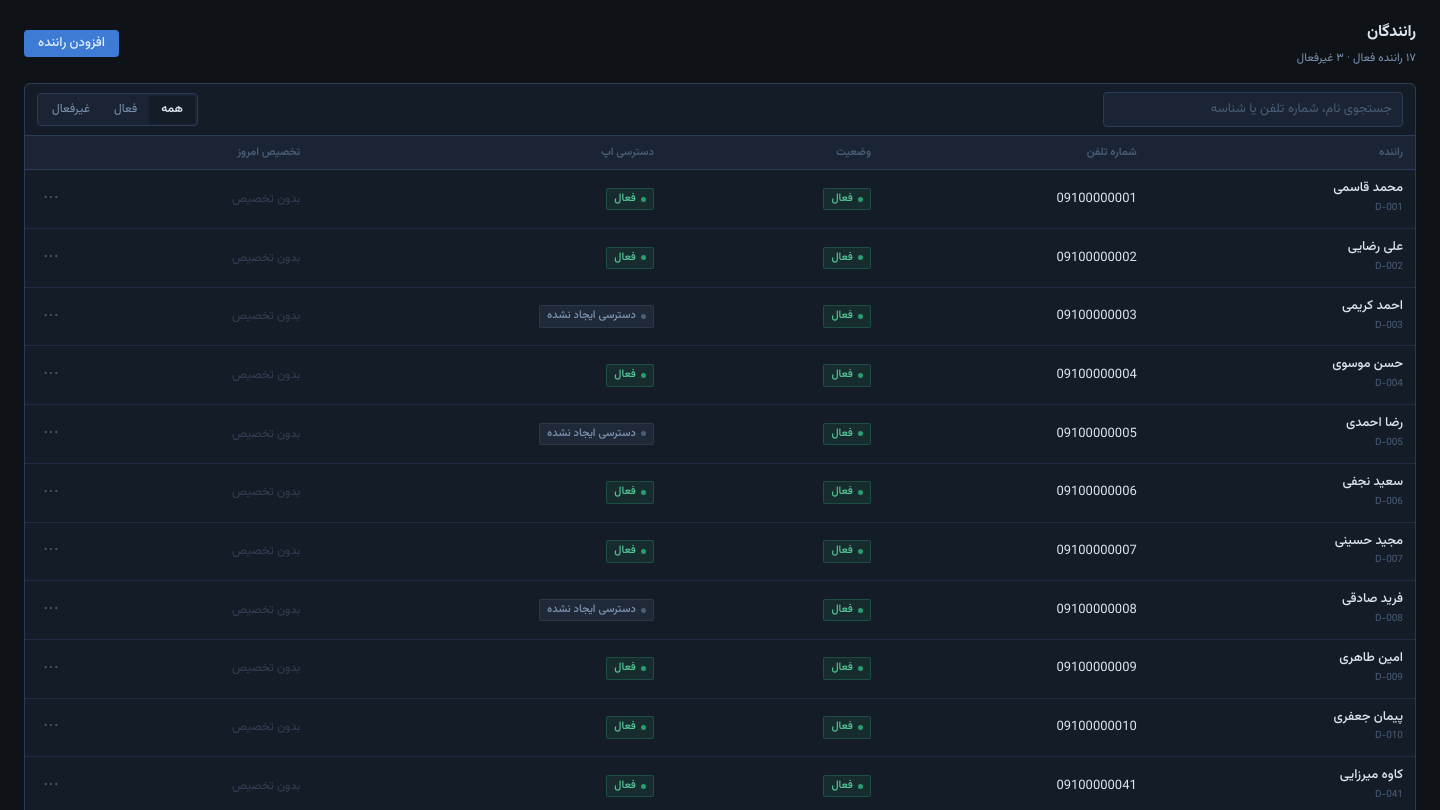
A06 Drivers — detail drawer › drawer shows today's assignments section
What coordinates should you click on to do the following:
click the row with class "drv-row" that starts with "محمد قاسمی"
I would click on:
 (720, 199)
Its box is 25,170 -> 1415,229.
(page scrolled)
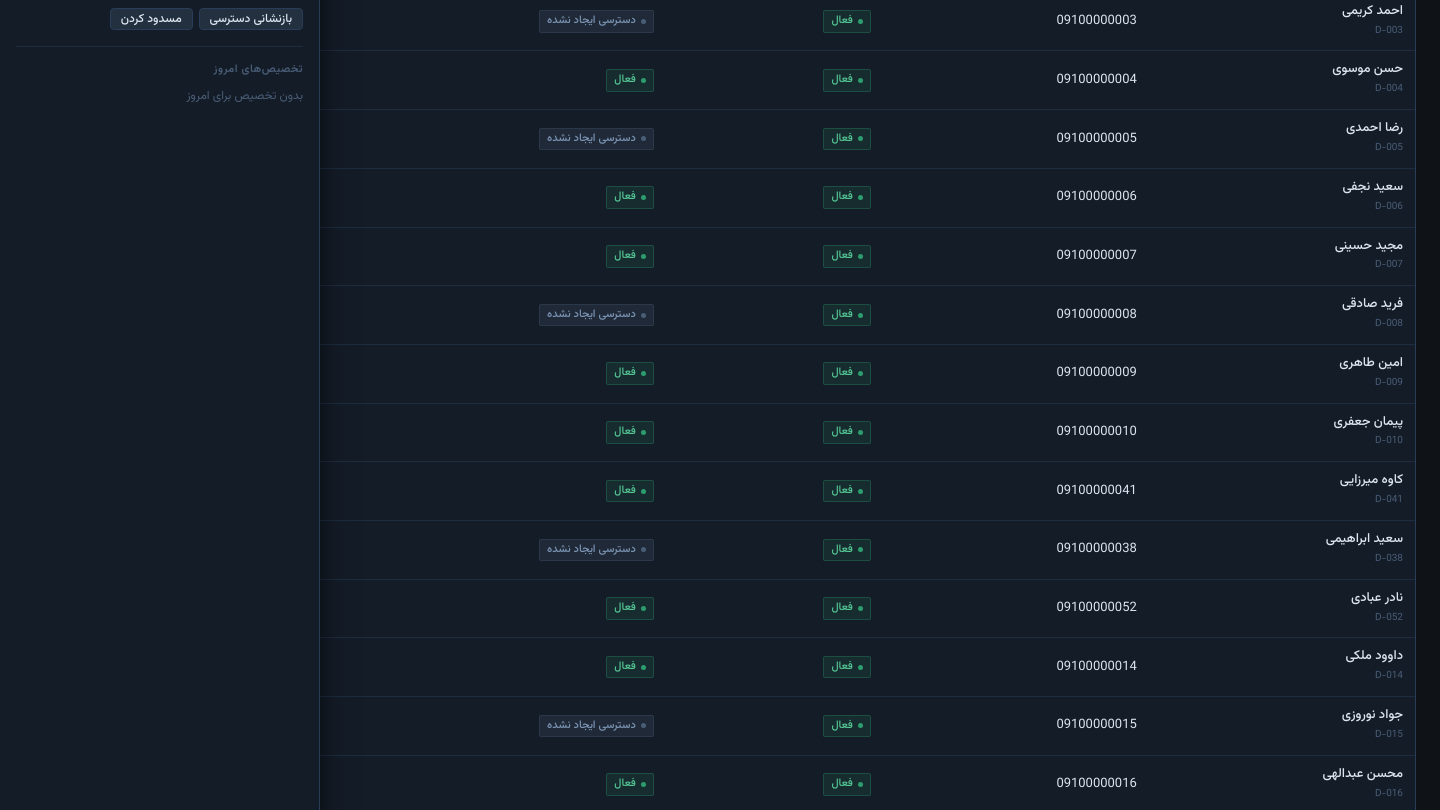
Expected: the element with class "drv-drawer" shows "تخصیص‌های امروز", 214,61 -> 303,78
